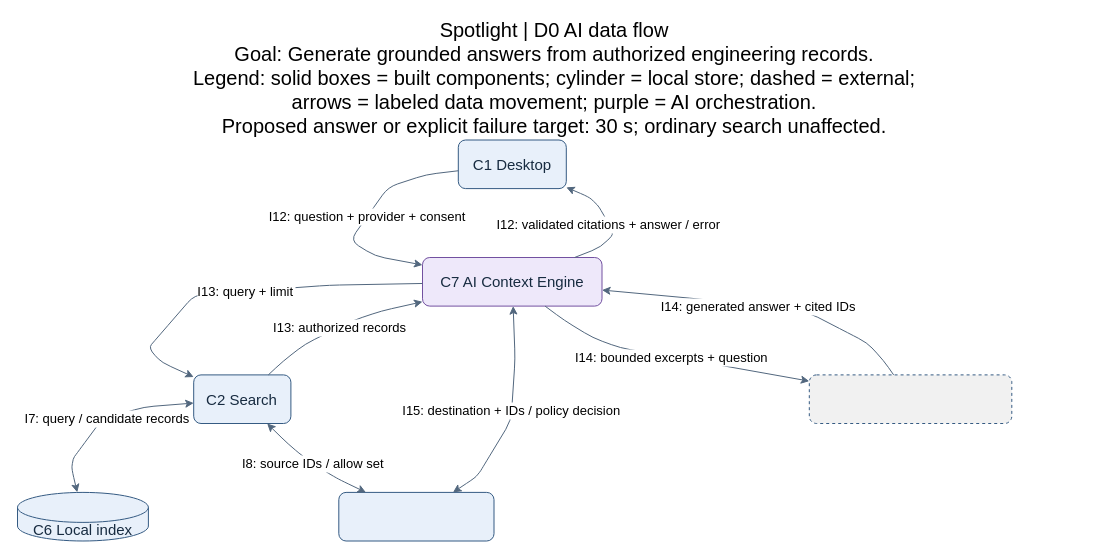
This 1109x559 diagram has some shape labels left out. Each missing label, with the box of its shape:
C5 Access control: (338, 491, 494, 541)
Optional model provider: (808, 374, 1012, 424)
